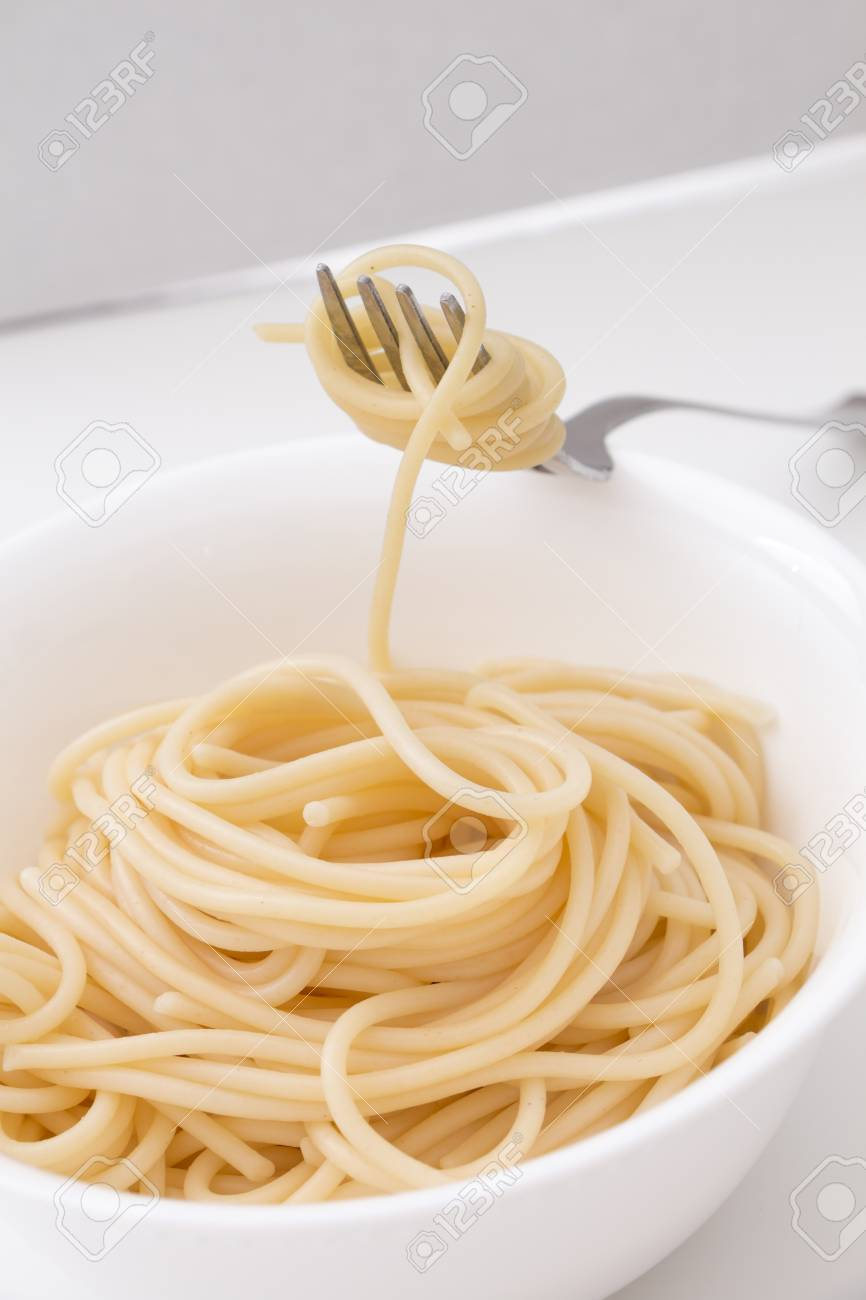plain spaghetti: (10, 245, 799, 1177)
